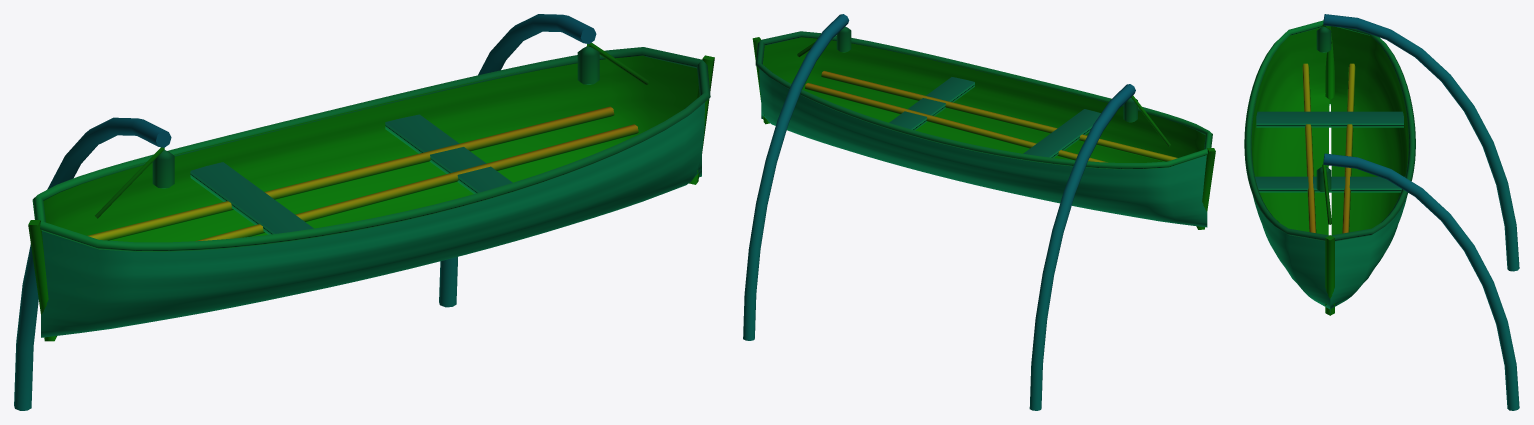
The model's file is ferry_skiff.glb.
3 views of the same model, side by side, from view 1: azimuth 30°, elevation 25°; view 2: azimuth 150°, elevation 25°; view 3: azimuth 270°, elevation 25° (orthographic). The views are drawn at different scales.
Parts seen in each view (by area): view 1: ferry_skiff; view 2: ferry_skiff; view 3: ferry_skiff.
Part boxes in pixels (x1=…): ferry_skiff: x1=14, y1=14, x2=714, y2=410; ferry_skiff: x1=743, y1=14, x2=1215, y2=410; ferry_skiff: x1=1244, y1=14, x2=1519, y2=410.
Size of what is drawn, in the model's own units: 4.36 by 2.3 by 2.25.
